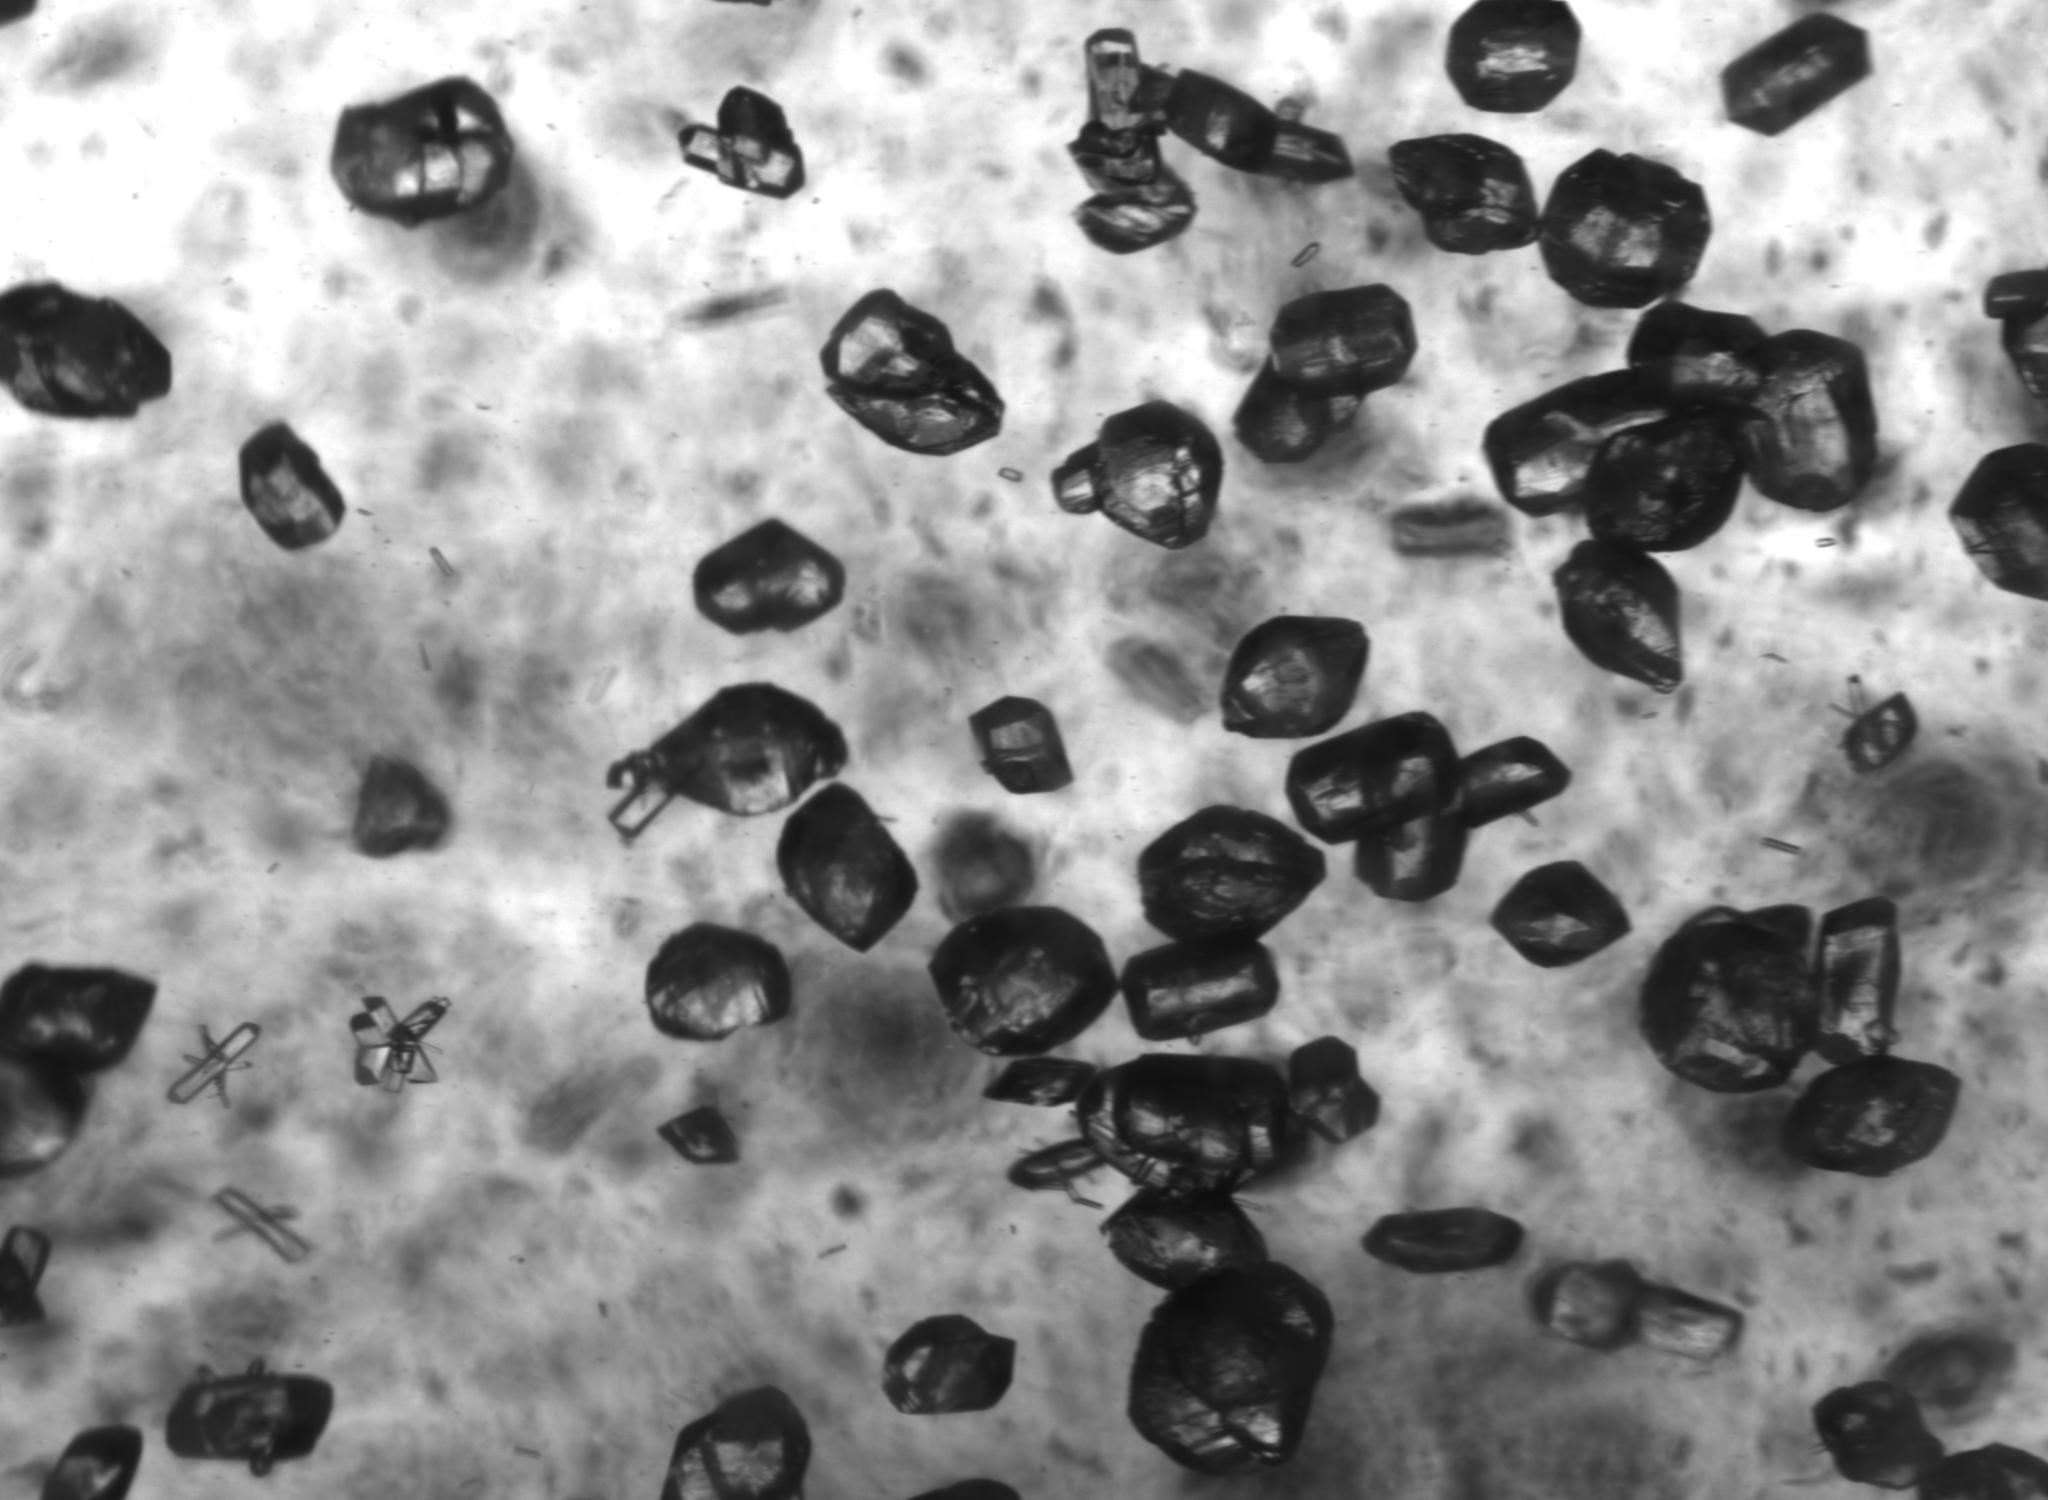crystal: (1484, 305, 1876, 552), (1286, 713, 1568, 902), (1127, 1260, 1334, 1475), (607, 684, 848, 838), (0, 962, 156, 1182), (1075, 1055, 1310, 1193), (1639, 907, 1814, 1093), (1235, 285, 1417, 463), (820, 290, 1003, 455), (1538, 150, 1711, 310), (1070, 29, 1194, 253), (929, 908, 1116, 1056), (331, 80, 512, 226), (1051, 401, 1223, 549), (1137, 805, 1325, 940), (778, 784, 917, 951), (0, 283, 172, 417), (1786, 1056, 1961, 1177), (1531, 1260, 1743, 1358), (1162, 70, 1347, 181), (1553, 539, 1682, 692), (165, 1358, 332, 1476), (1220, 616, 1369, 738), (1722, 13, 1870, 135), (1388, 135, 1538, 255), (660, 1385, 813, 1500), (644, 923, 792, 1040), (693, 520, 844, 633), (1100, 1191, 1267, 1292), (1119, 938, 1280, 1040), (1949, 442, 2048, 601), (1447, 0, 1581, 113), (1491, 862, 1630, 967), (1814, 1381, 1946, 1490), (1814, 897, 1900, 1064), (679, 87, 803, 197), (239, 423, 345, 550), (881, 1314, 1016, 1414), (1363, 1207, 1525, 1274), (348, 996, 450, 1094), (1286, 1037, 1380, 1144), (970, 697, 1072, 794), (1984, 267, 2048, 406), (165, 1021, 261, 1104), (40, 1425, 143, 1500), (1916, 1444, 2048, 1500), (1008, 1137, 1110, 1206), (1843, 694, 1918, 773), (984, 1056, 1097, 1106), (0, 1226, 51, 1327), (658, 1106, 739, 1164)
